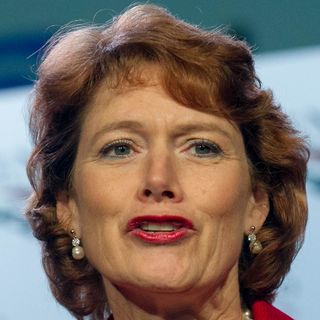eye: (178, 138, 226, 162), (97, 136, 143, 161)
